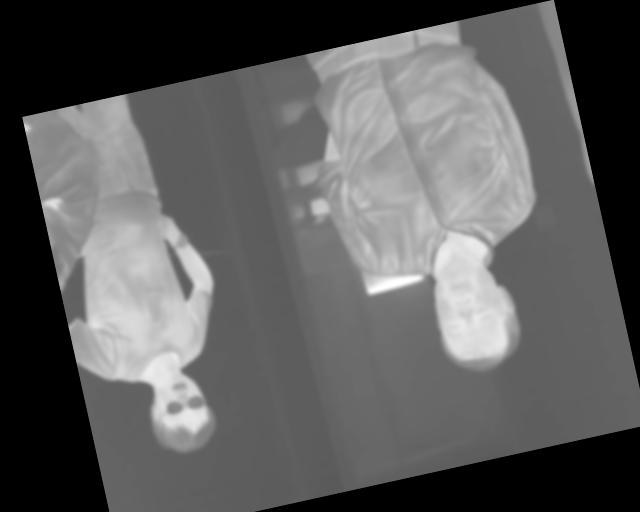face: (423, 249, 528, 381), (140, 361, 221, 459)
